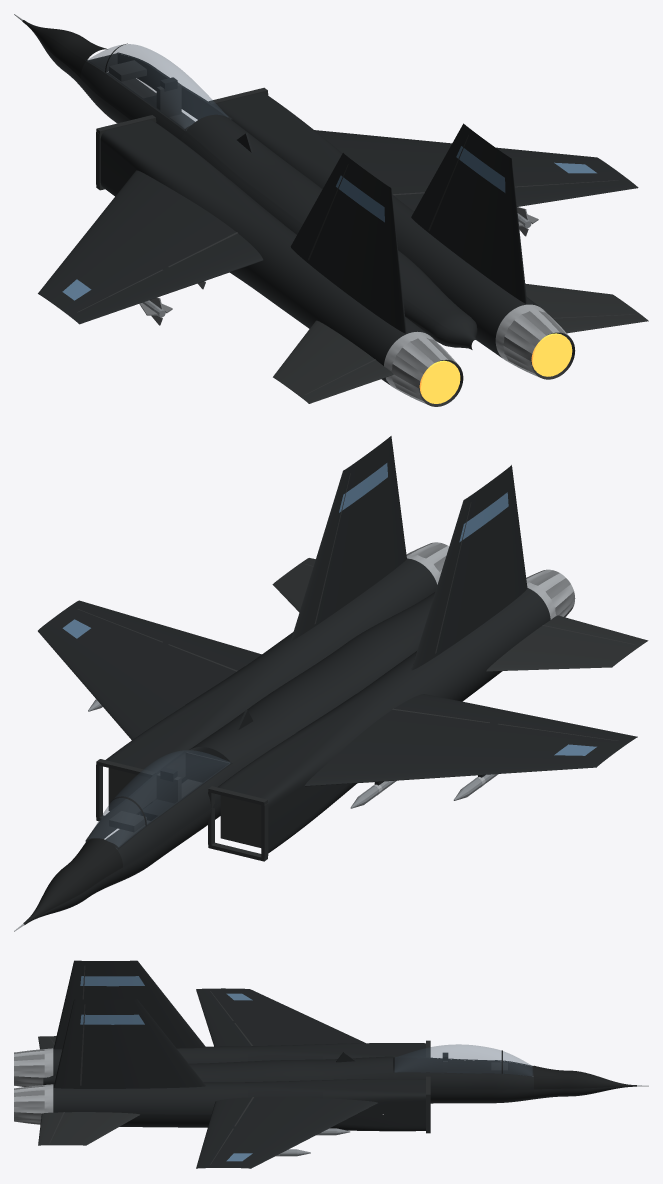
The picture shows the model from 3 angles, top to bottom: view 1: azimuth 30°, elevation 25°; view 2: azimuth 150°, elevation 25°; view 3: azimuth 270°, elevation 25°; orthographic projection. The views are drawn at different scales.
Parts seen in each view (by area): view 1: wing_L, engine_L, engine_R, fin_L, fin_R, wing_R, fuselage_top, stabilizer_L, canopy, stabilizer_R, fuselage_left, cockpit_skin_left (+12 smaller); view 2: engine_L, wing_L, wing_R, engine_R, fin_L, fin_R, fuselage_top, canopy, stabilizer_L, cockpit_skin_left, fuselage_left, radome_top (+10 smaller); view 3: engine_R, fin_R, wing_R, wing_L, fin_L, engine_L, fuselage_top, canopy, stabilizer_R, cockpit_skin_right, cockpit_tub_L, cockpit_skin_belly (+8 smaller).
Part boxes in pixels (x1,y1,x2,y2): wing_L: [38, 170, 263, 324]; engine_L: [100, 120, 428, 385]; engine_R: [215, 93, 539, 358]; fin_L: [290, 153, 406, 333]; fin_R: [411, 123, 527, 304]; wing_R: [314, 130, 638, 211]; fuselage_top: [186, 114, 476, 341]; stabilizer_L: [273, 320, 393, 403]; canopy: [87, 44, 227, 128]; stabilizer_R: [525, 283, 648, 333]; fuselage_left: [180, 131, 472, 345]; cockpit_skin_left: [80, 61, 185, 140]; engine_L: [217, 588, 550, 853]; wing_L: [305, 694, 637, 786]; wing_R: [38, 600, 261, 739]; engine_R: [106, 558, 437, 782]; fin_L: [411, 465, 527, 670]; fin_R: [291, 436, 406, 640]; fuselage_top: [189, 592, 435, 762]; canopy: [88, 750, 229, 848]; stabilizer_L: [486, 615, 648, 671]; cockpit_skin_left: [117, 764, 236, 866]; fuselage_left: [232, 632, 422, 772]; radome_top: [23, 838, 116, 923]; engine_R: [53, 1079, 425, 1131]; fin_R: [53, 999, 205, 1088]; wing_R: [196, 1097, 377, 1168]; wing_L: [196, 988, 365, 1046]; fin_L: [53, 960, 205, 1049]; engine_L: [53, 1043, 425, 1075]; fuselage_top: [43, 1056, 393, 1079]; canopy: [395, 1044, 532, 1075]; stabilizer_R: [38, 1112, 139, 1145]; cockpit_skin_right: [393, 1072, 533, 1089]; cockpit_tub_L: [394, 1058, 532, 1075]; cockpit_skin_belly: [430, 1089, 533, 1103].
Size of the model in its own units: 13 by 4.32 by 19.44.
